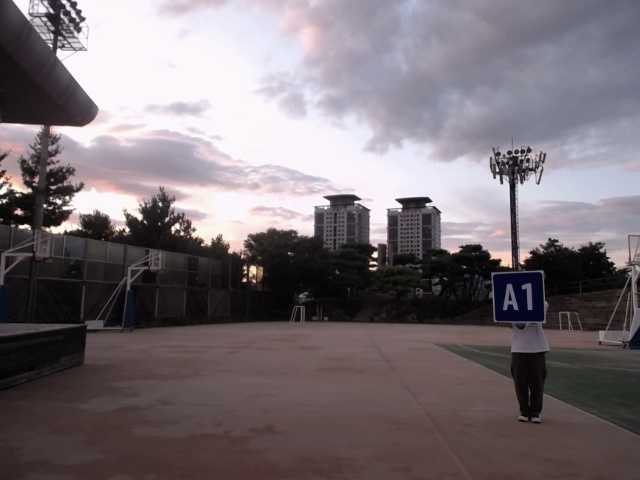delivery_a1: (492, 272, 546, 323)
